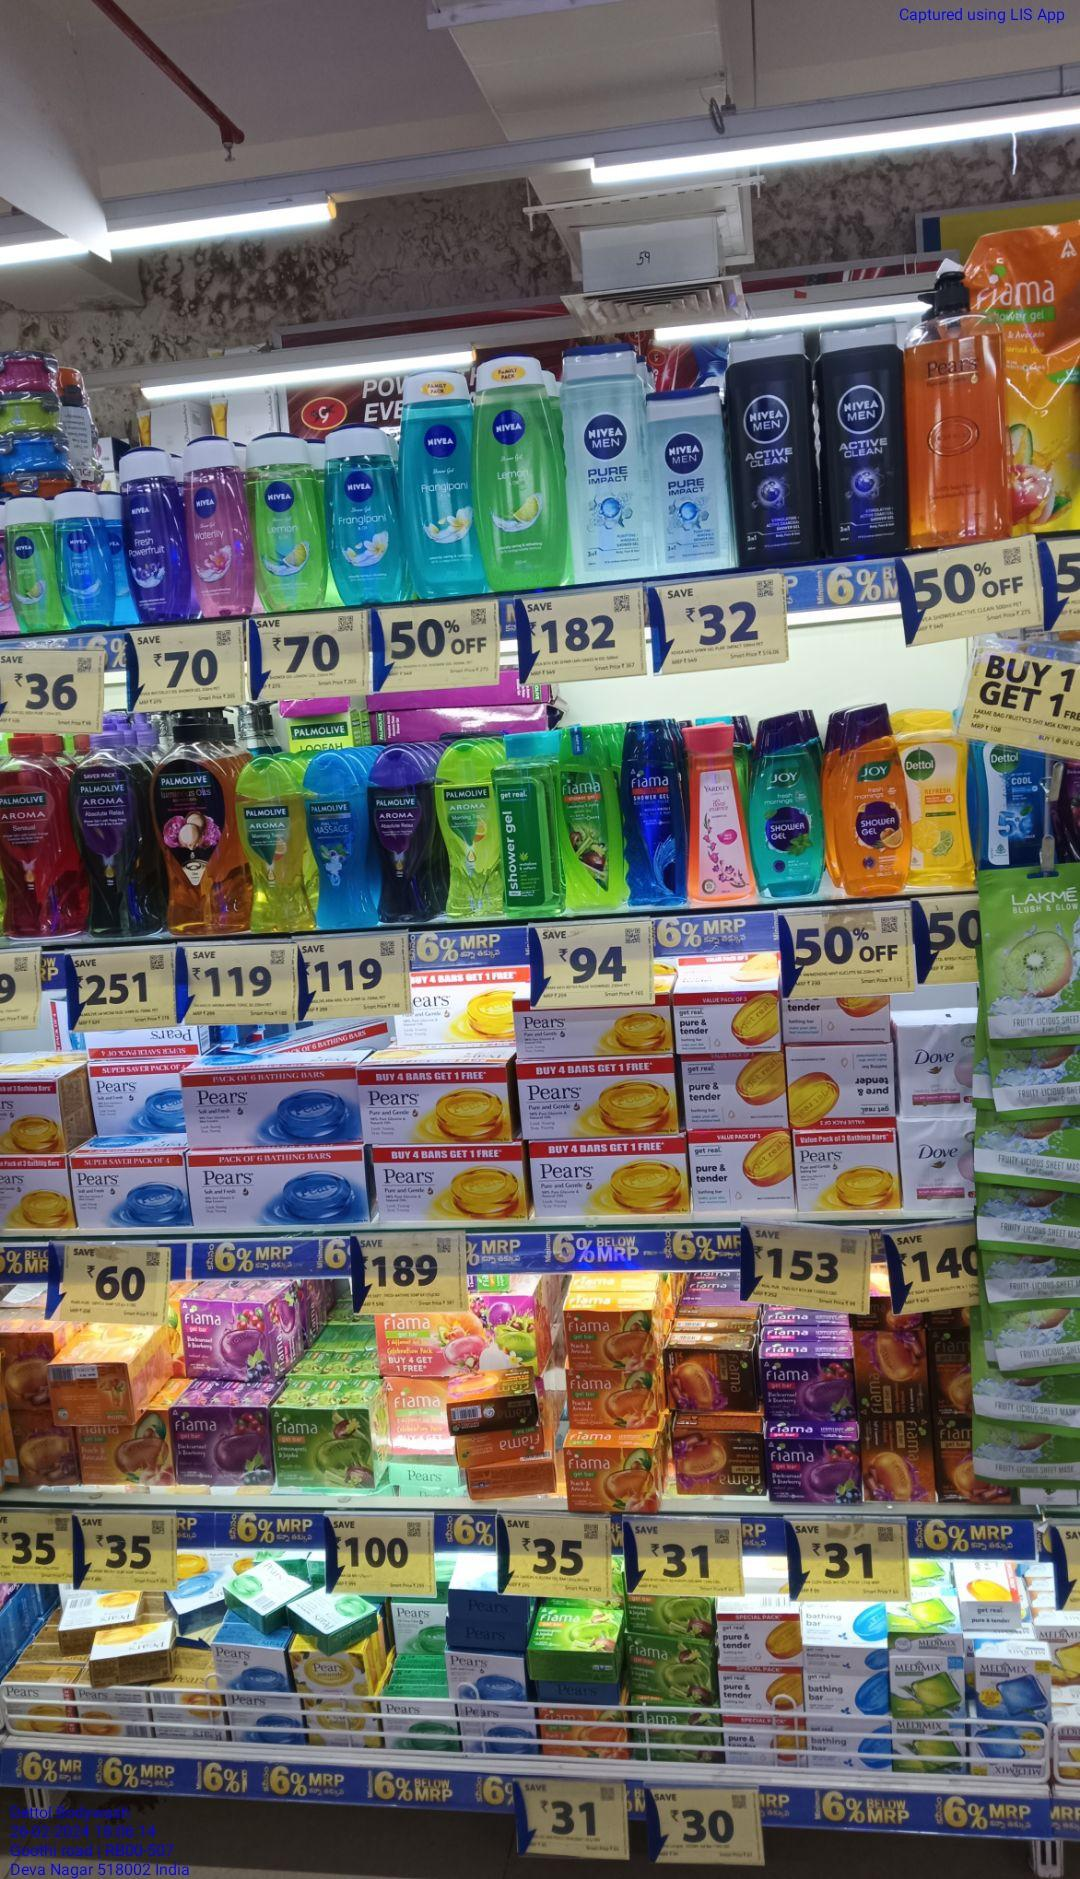Dettol_Bodywash_Refresh: (910, 711, 977, 893)
Joy_Shower_Gel_Mandarin_and_Lemongrass_250ML: (834, 702, 905, 902)
Joy_Shower_Gel_Mint_and_Eucalyptus_250ML: (748, 707, 822, 907)
Nivea_Shower_Gel_Frangipani_and_Oil_250ML: (405, 367, 475, 607), (326, 421, 395, 603)
Nivea_Shower_Gel_Fresh_Powerfruit_250ML: (119, 440, 182, 626)
Nivea_Shower_Gel_Lemon_and_Oil_250ML: (476, 350, 569, 591), (249, 431, 319, 610)
Nivea_Shower_Gel_Waterlily_and_Oil_250ML: (186, 435, 249, 619)
Palmolive_Aroma_Moments_Feel_The_Massage_Shower_Gel_250ML: (308, 749, 365, 936)
Palmolive_Aroma_Morning_Tonic_Shower_Gel_250ML: (240, 756, 303, 942), (440, 741, 499, 918)
Palmolive_Aroma_Relax_250ML: (372, 743, 436, 924)
